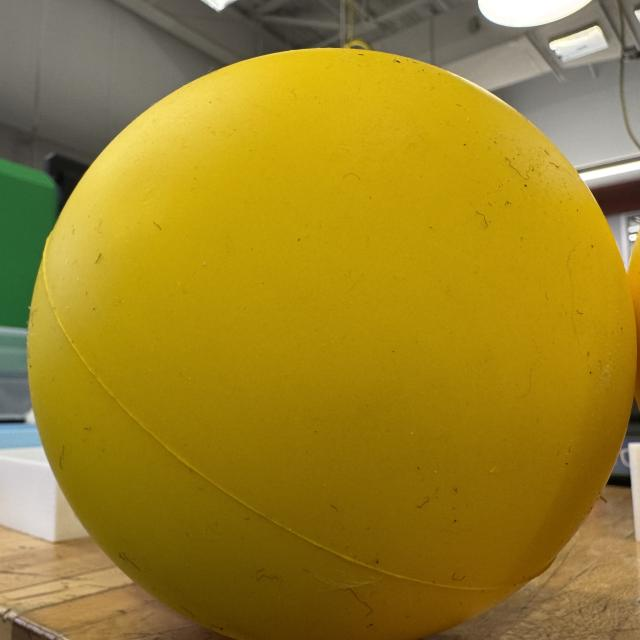Fuel: (26, 47, 640, 640)
